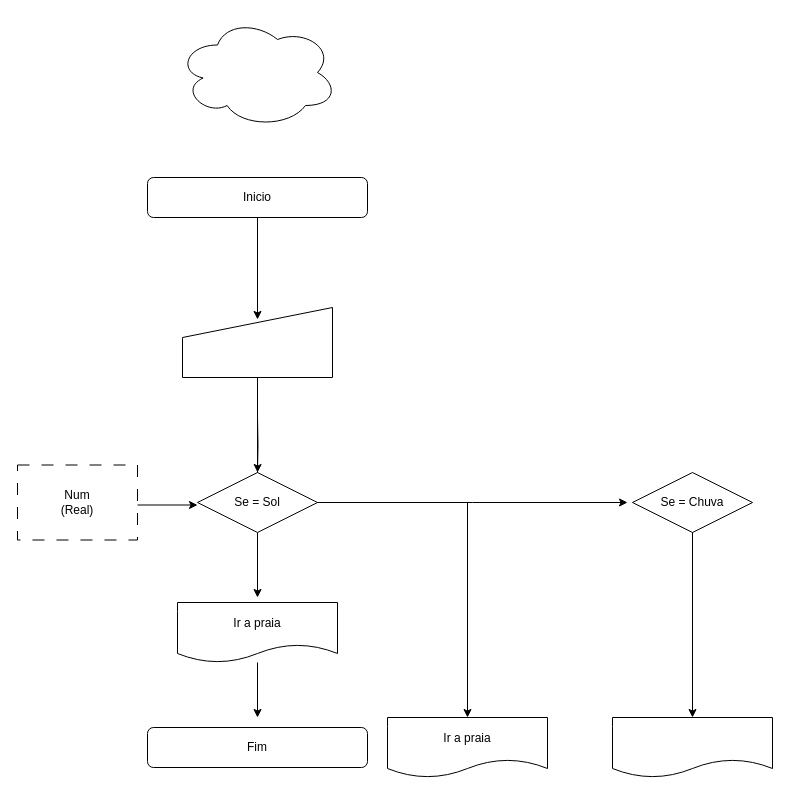
Image size: 790x795. Some labels were removed from this diagram. Here are the shapes that lost their labels. From the top down, the box of each, then its label:
(176, 16, 338, 128): EXERCICIO 5
(182, 306, 332, 378): Digite seu numero
(612, 716, 772, 778): Ler um livro
